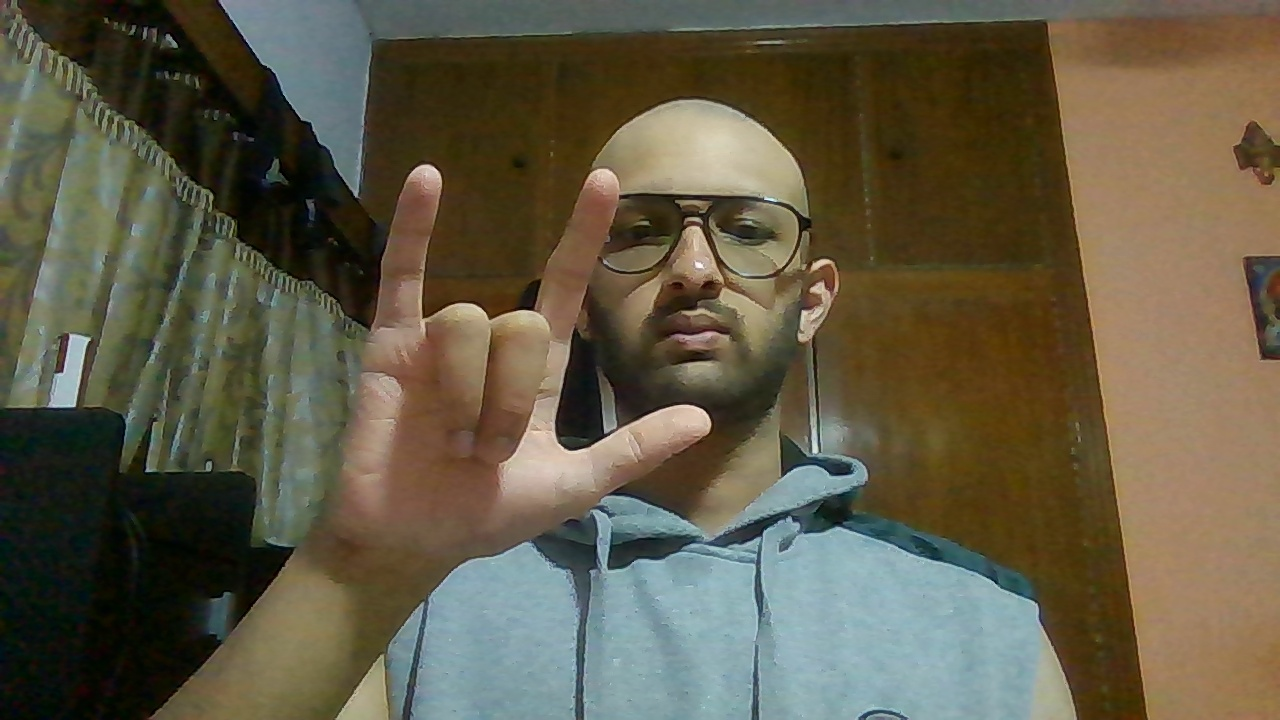I Love You: (329, 158, 715, 573)
